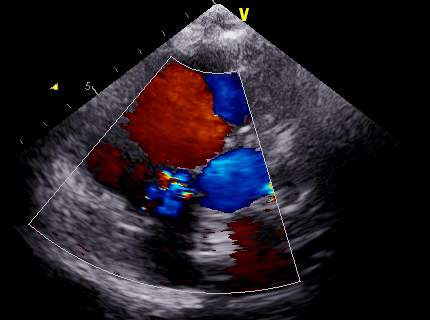TR: (133, 153, 211, 227)
